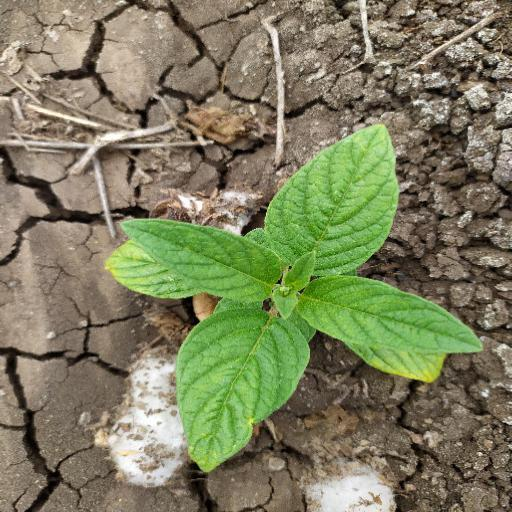crop: (97, 111, 484, 475)
